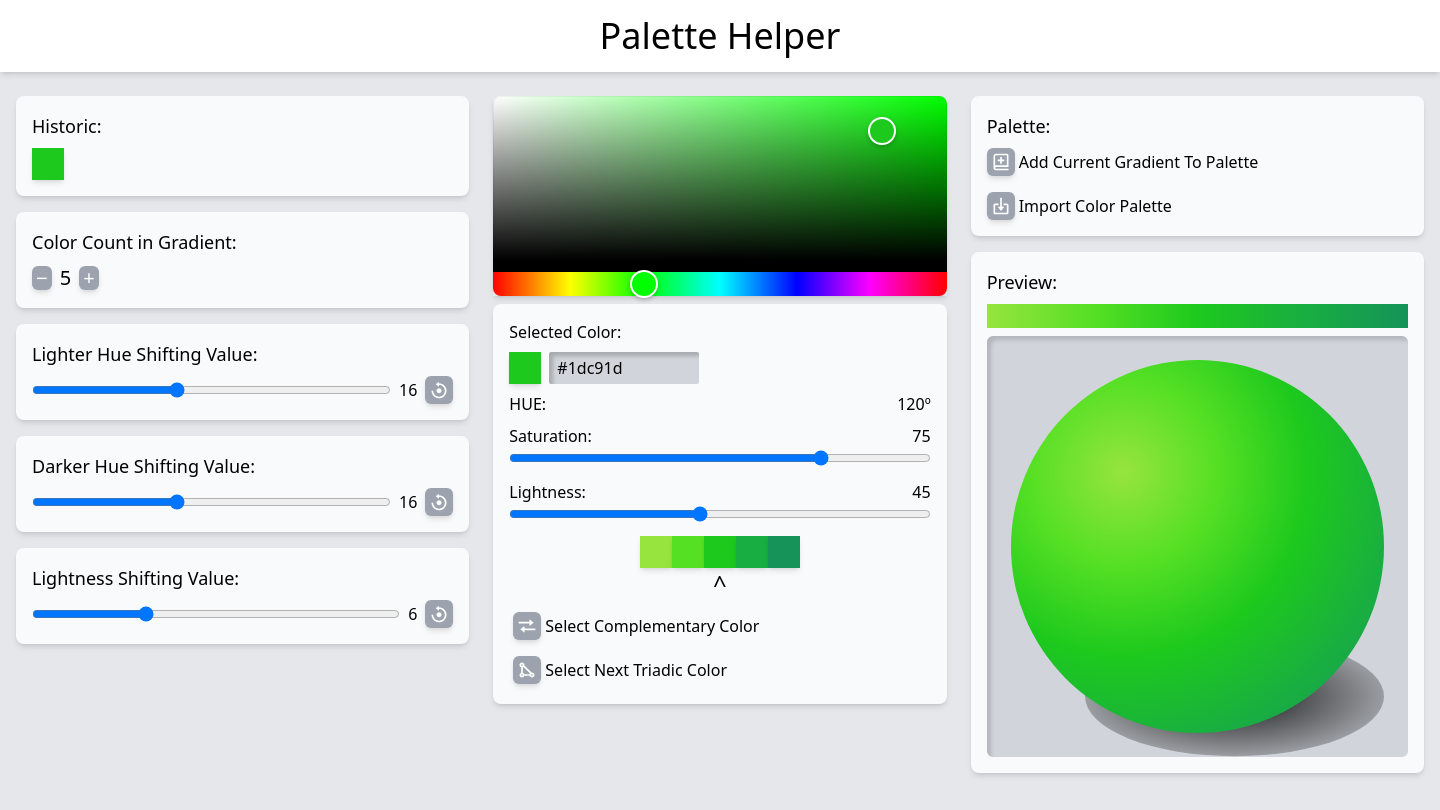
Test: App page test › Should change Current Color (Saturation and Lightness Sliders
Note: sliders reading color changings
Replace the text in the field with test id "textInputCurrentColor" with "#ff0000" at (624, 368), box [549,352,699,384]
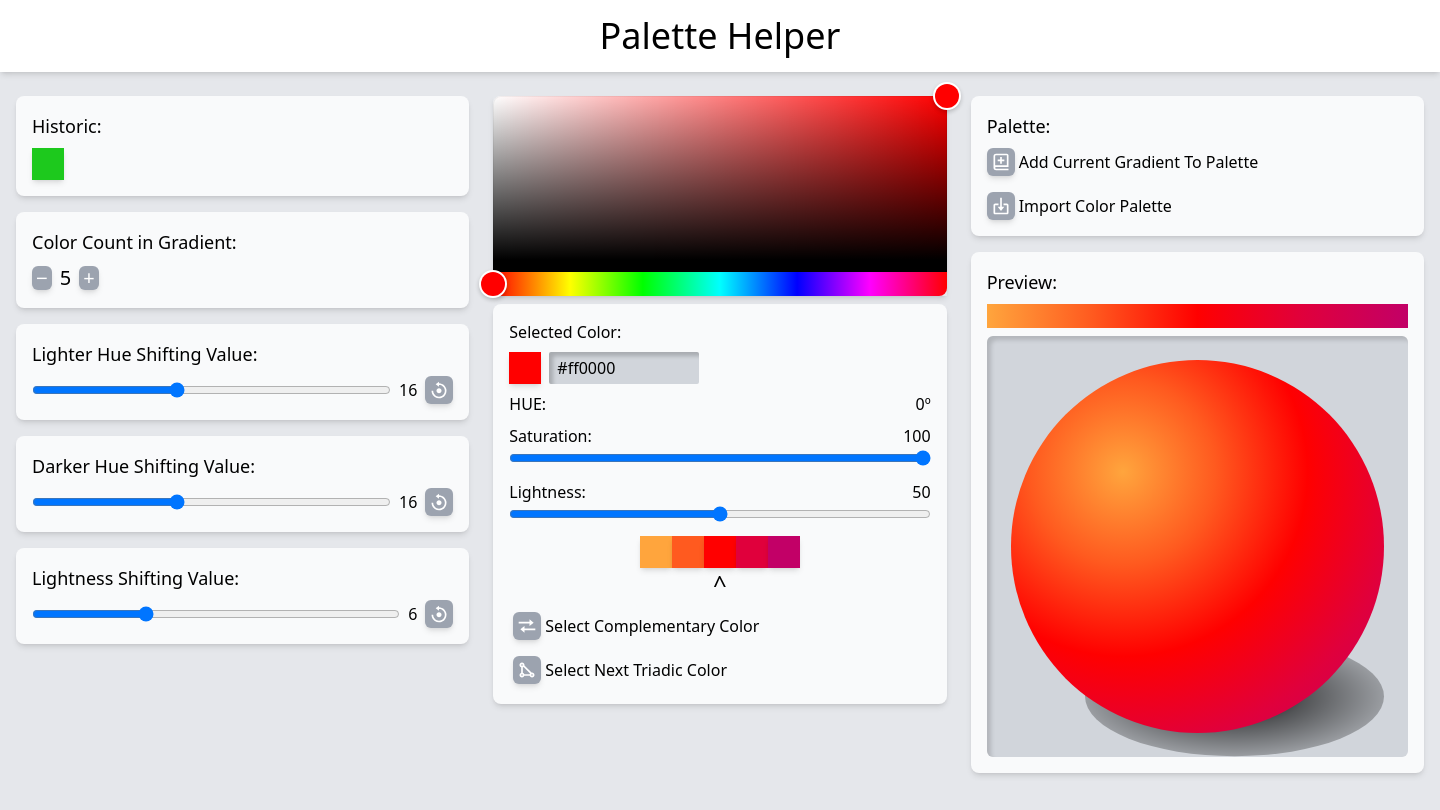
Note: saturation slider
Set the slider with test id "sliderSaturation" to "50" at (720, 458), box [509,450,931,466]
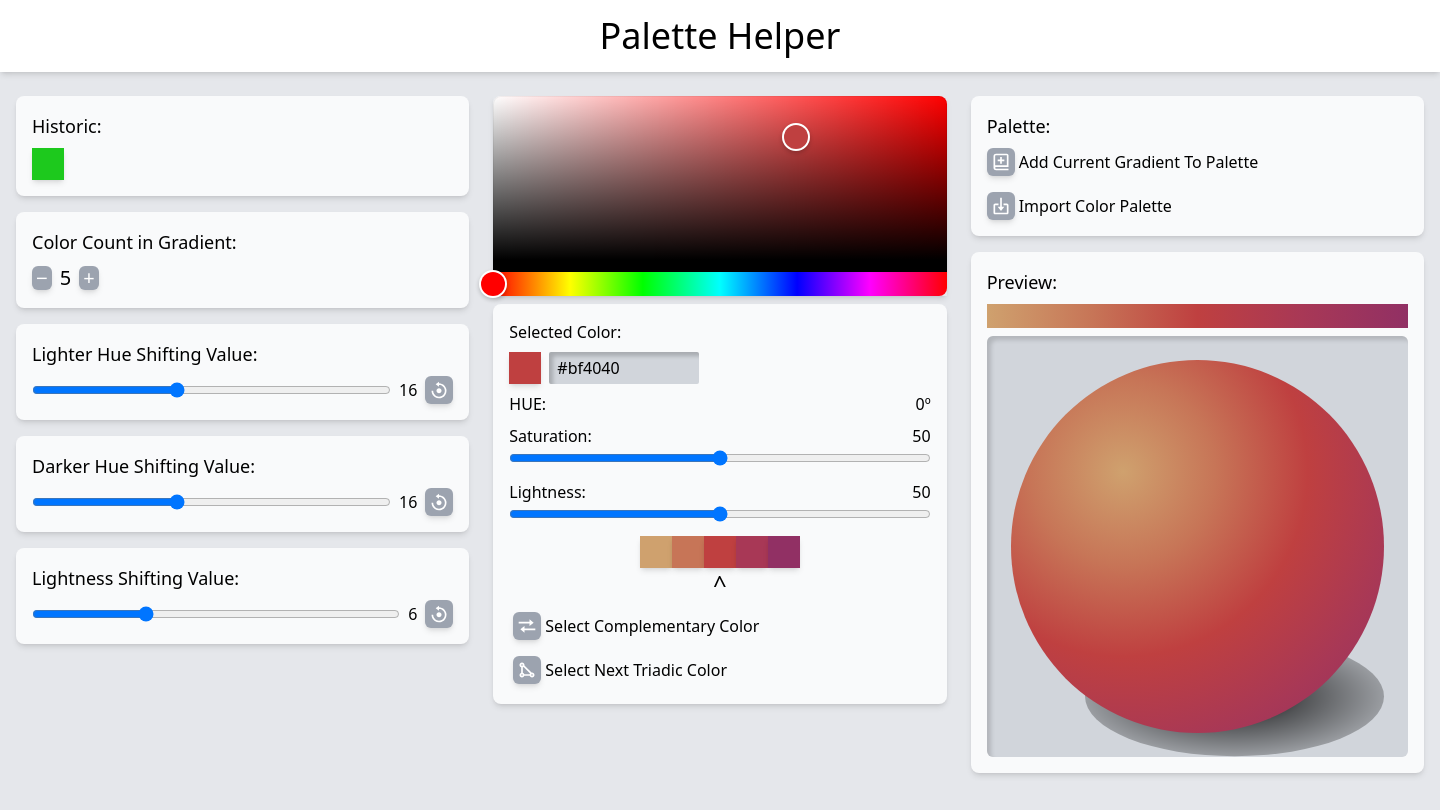
Expected: the field with test id "textInputCurrentColor" holds "#bf4040", [549,352,699,384]
Set the slider with test id "sliderSaturation" to "100" at (923, 458), box [509,450,931,466]
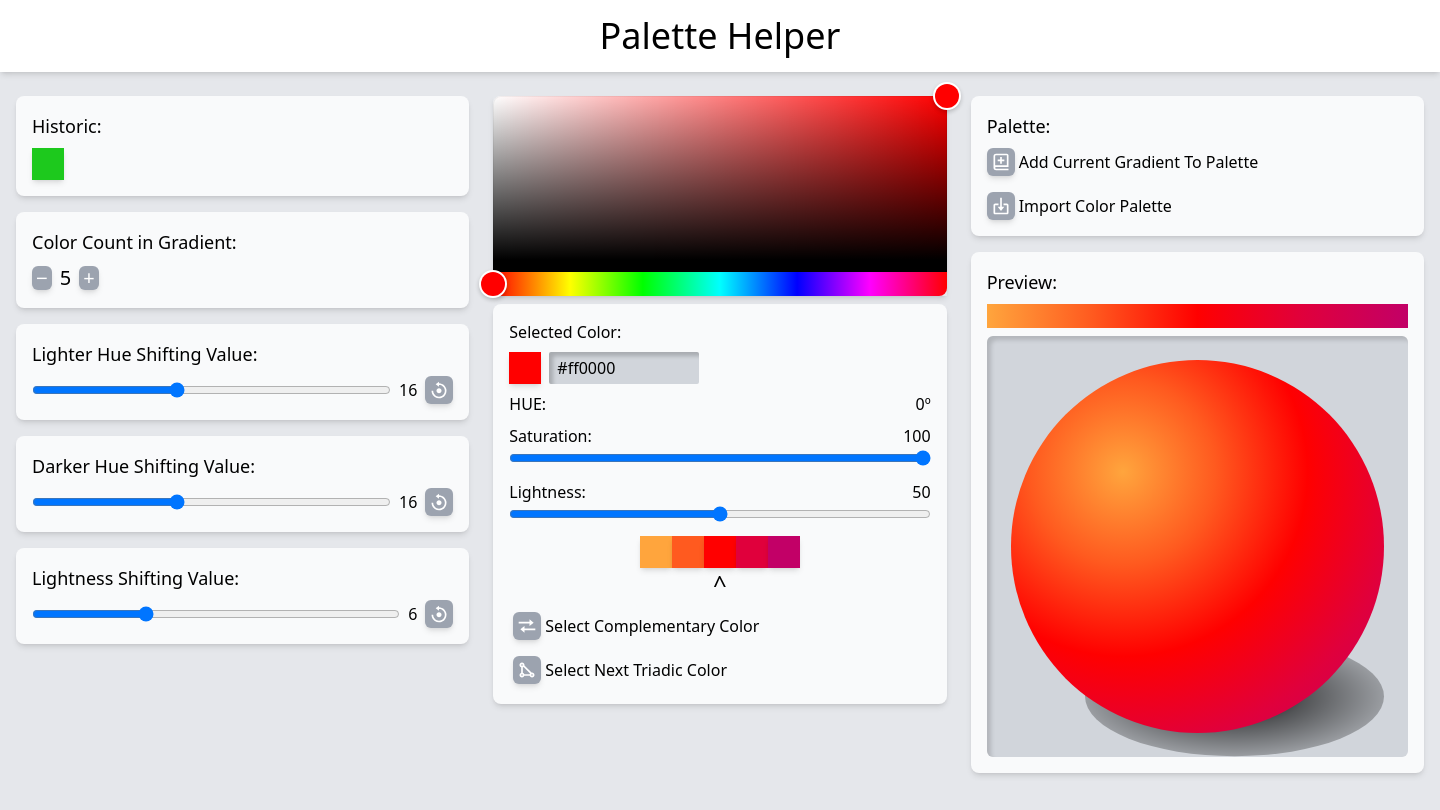
Note: ligtness slider
Set the slider with test id "sliderLightness" to "0" at (517, 514), box [509,506,931,522]
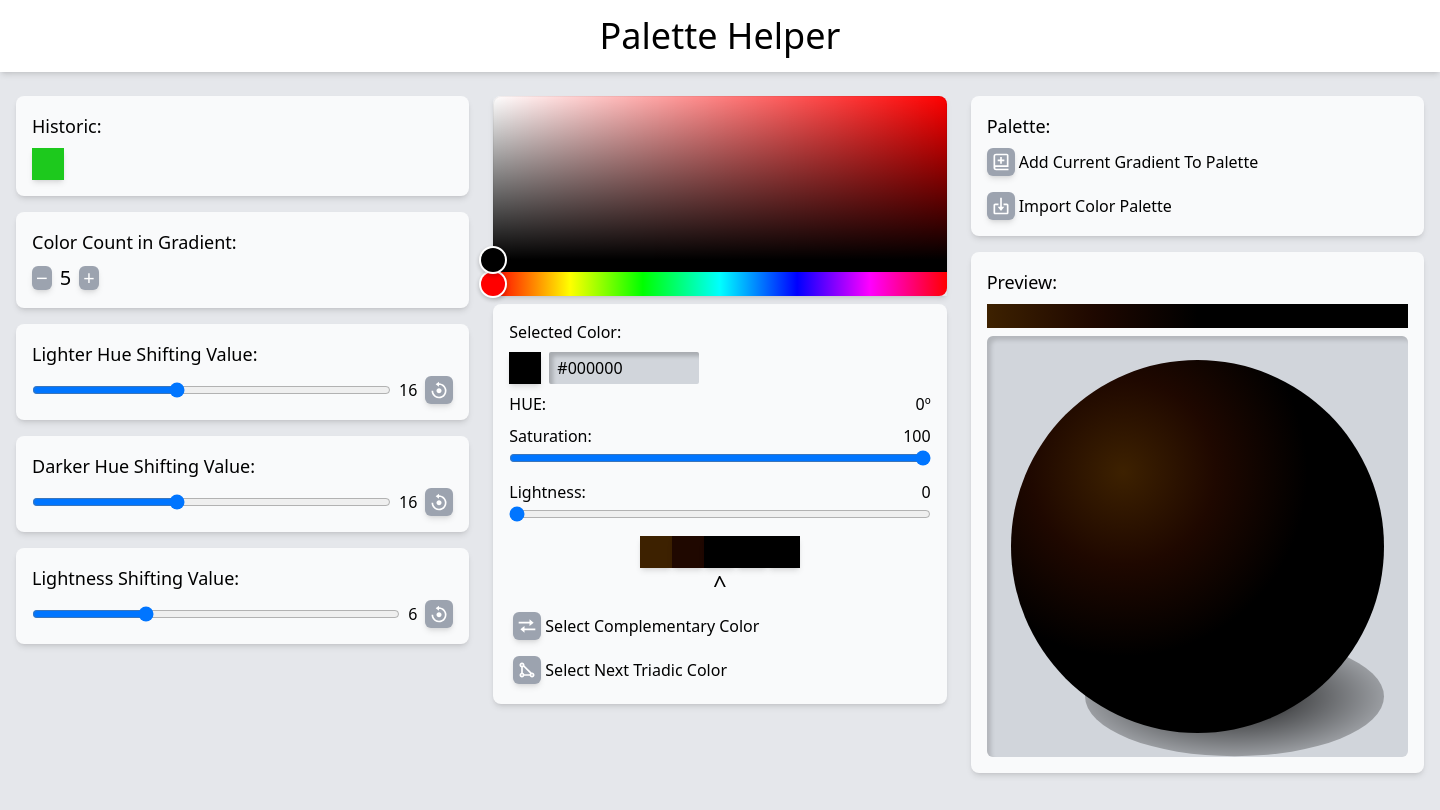
Expected: the field with test id "textInputCurrentColor" holds "#000000", [549,352,699,384]
Set the slider with test id "sliderLightness" to "100" at (923, 514), box [509,506,931,522]
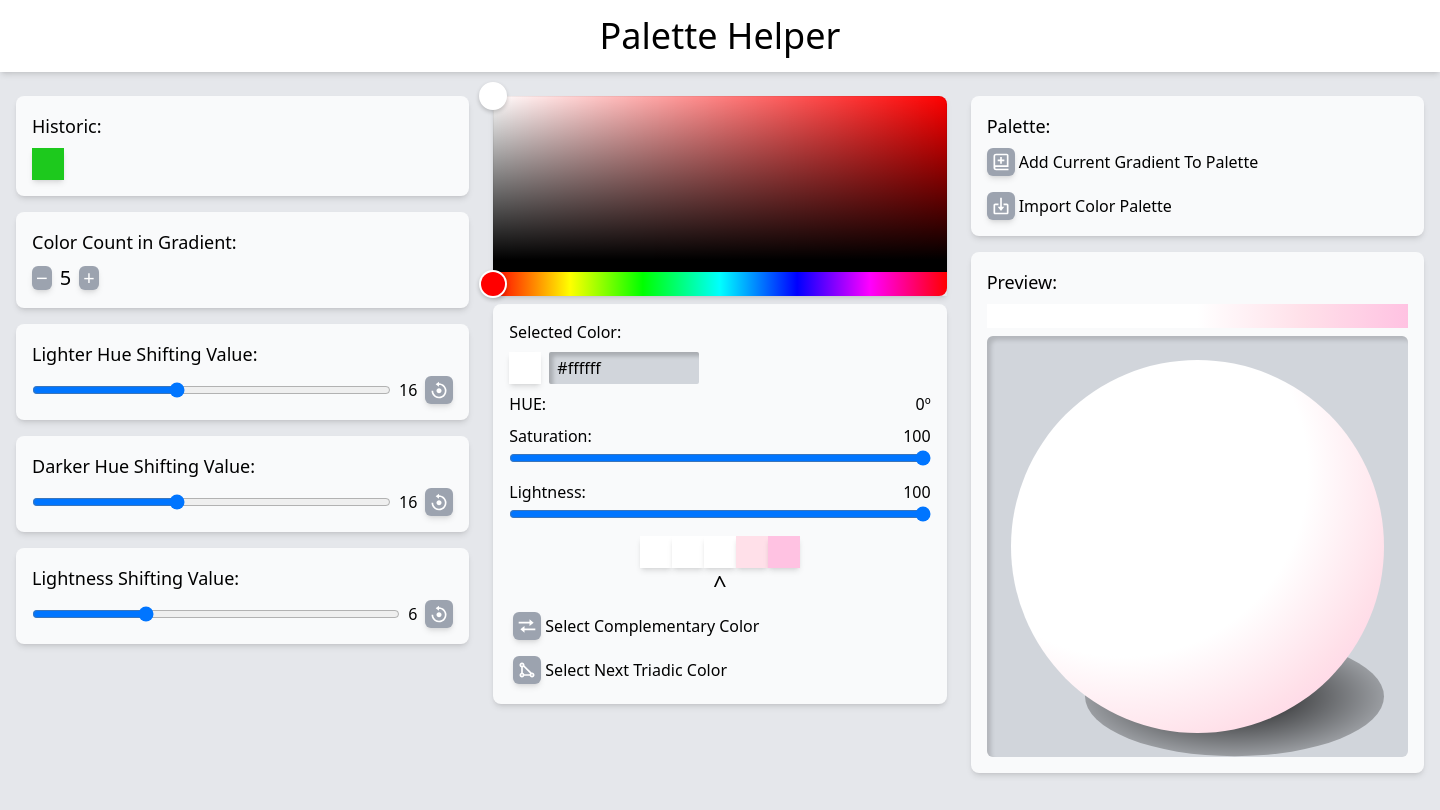
Expected: the field with test id "textInputCurrentColor" holds "#ffffff", [549,352,699,384]
